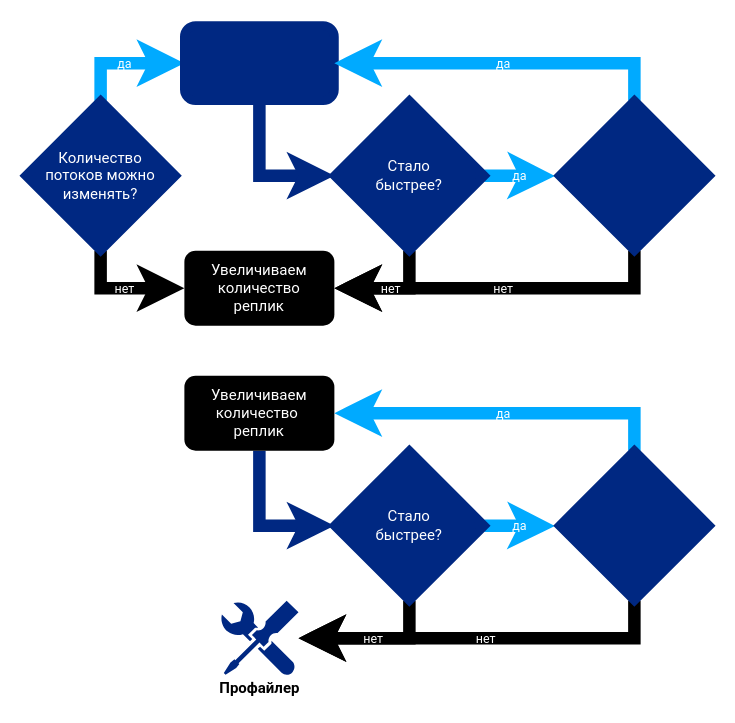
Some shapes in this 735 by 723 pixel diagram are drawn without their labels. Each missing label, with the centre of its shape:
"Есть свободные ресурсы (Limit)?" goes at pixel 633 175.
"Есть свободные ресурсы?" goes at pixel 633 525.
"Увеличиваем количество потоков" goes at pixel 258 62.
